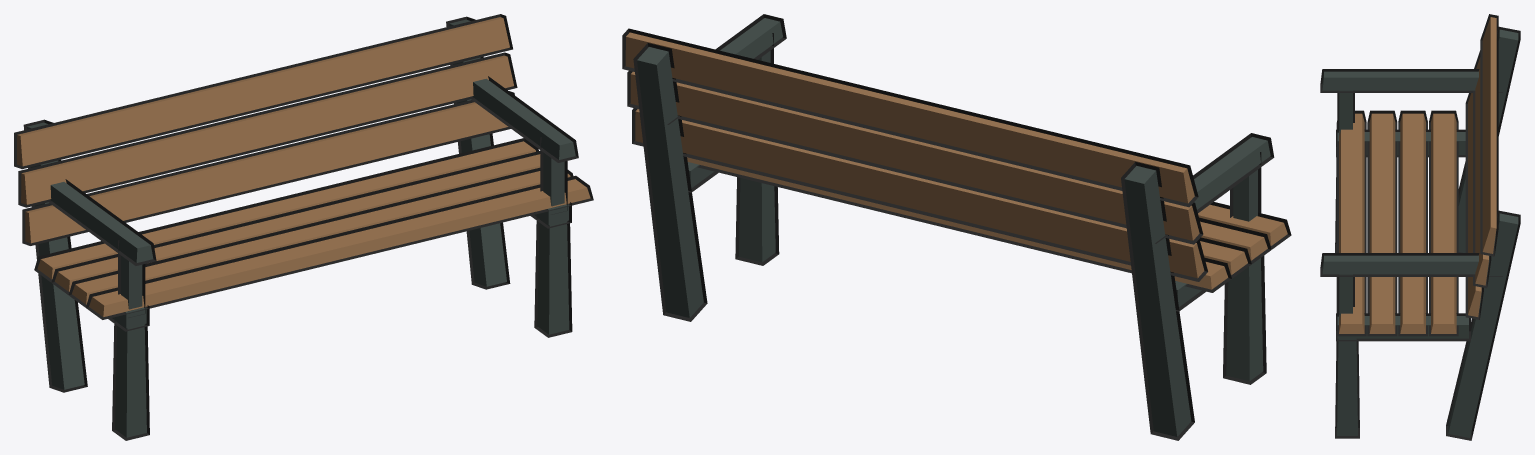
The model's file is bench.fbx.
3 renders of one model, left to right at view 1: azimuth 30°, elevation 25°; view 2: azimuth 150°, elevation 25°; view 3: azimuth 270°, elevation 25°, orthographic. The views are drawn at different scales.
Visible parts, largest first — view 1: Park_Bench; view 2: Park_Bench; view 3: Park_Bench.
Part boxes in pixels (left/top/right/bottom): Park_Bench: left=14, top=14, right=593, bottom=440; Park_Bench: left=622, top=14, right=1291, bottom=440; Park_Bench: left=1320, top=14, right=1520, bottom=440.
Bounding box in the file's own units: 182 × 88.54 × 71.76.
